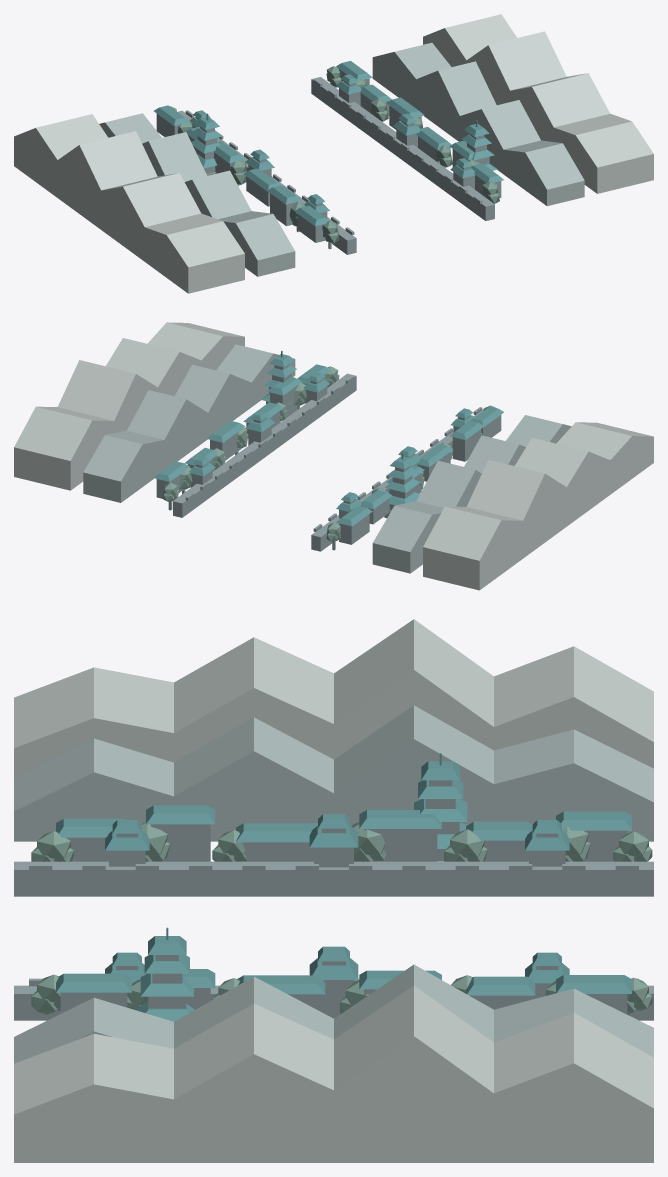
The model's file is ancient_skyline.glb.
3 renders of one model, top to bottom at view 1: azimuth 30°, elevation 25°; view 2: azimuth 150°, elevation 25°; view 3: azimuth 270°, elevation 25°, orthographic. The views are drawn at different scales.
Visible parts, largest first — view 1: Skyline_Mountain_Far, Skyline_Mountain_Mid, Skyline_Blue_Stone, Skyline_Deep_Teal_Roof, Skyline_Pine_Mass; view 2: Skyline_Mountain_Far, Skyline_Mountain_Mid, Skyline_Blue_Stone, Skyline_Deep_Teal_Roof, Skyline_Pine_Mass; view 3: Skyline_Mountain_Far, Skyline_Mountain_Mid, Skyline_Blue_Stone, Skyline_Deep_Teal_Roof, Skyline_Pine_Mass.
Boxes of the visible parts, left/top/right/bottom form: Skyline_Mountain_Far: left=14, top=14, right=653, bottom=293; Skyline_Mountain_Mid: left=99, top=42, right=584, bottom=276; Skyline_Blue_Stone: left=156, top=69, right=501, bottom=254; Skyline_Deep_Teal_Roof: left=154, top=61, right=503, bottom=226; Skyline_Pine_Mass: left=170, top=66, right=499, bottom=243; Skyline_Mountain_Far: left=14, top=322, right=653, bottom=590; Skyline_Mountain_Mid: left=83, top=344, right=571, bottom=573; Skyline_Blue_Stone: left=156, top=364, right=501, bottom=551; Skyline_Deep_Teal_Roof: left=154, top=350, right=503, bottom=526; Skyline_Pine_Mass: left=163, top=366, right=495, bottom=541; Skyline_Mountain_Far: left=14, top=619, right=653, bottom=1162; Skyline_Mountain_Mid: left=14, top=705, right=653, bottom=1063; Skyline_Blue_Stone: left=14, top=780, right=653, bottom=1020; Skyline_Deep_Teal_Roof: left=56, top=753, right=631, bottom=1021; Skyline_Pine_Mass: left=31, top=822, right=652, bottom=1014.
Size of the model in its own units: 148 by 21 by 96.
